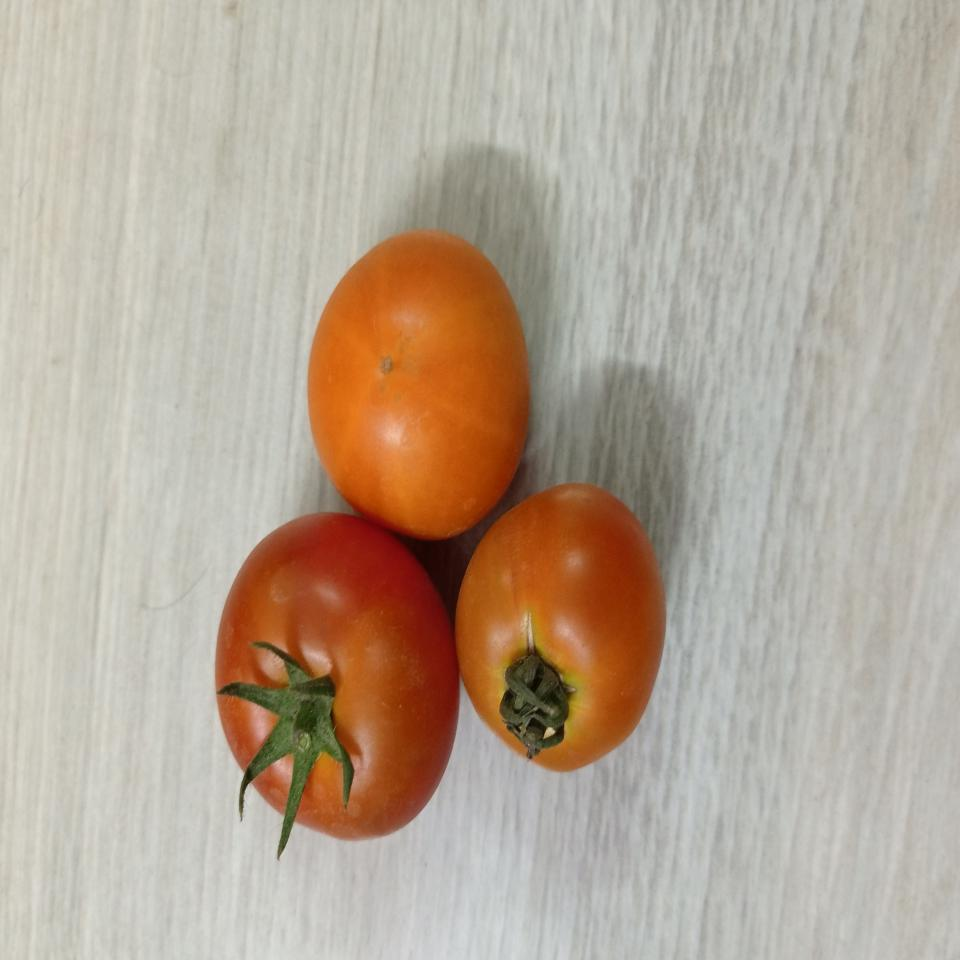Healthy: (208, 501, 460, 851), (296, 215, 539, 537), (457, 473, 672, 776)
